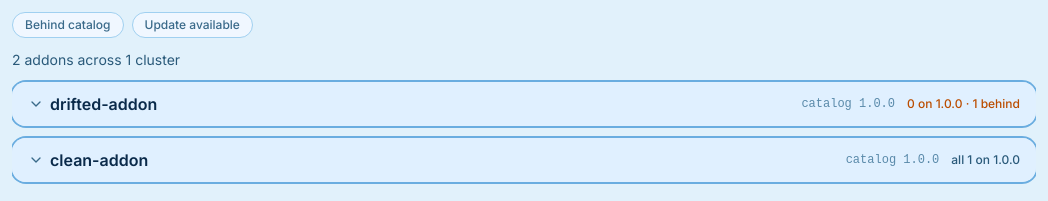
it: AddonVersionList — behind-catalog filter chip › clicking the "Behind catalog" chip filters to only drifted addons
The image size is (1048, 201).
Expected: the text "clean-addon" is shown, x1=50 y1=148 x2=148 y2=172
Click the button with test id "version-list-behind-chip".
click(68, 25)  # box x1=12 y1=12 x2=124 y2=38
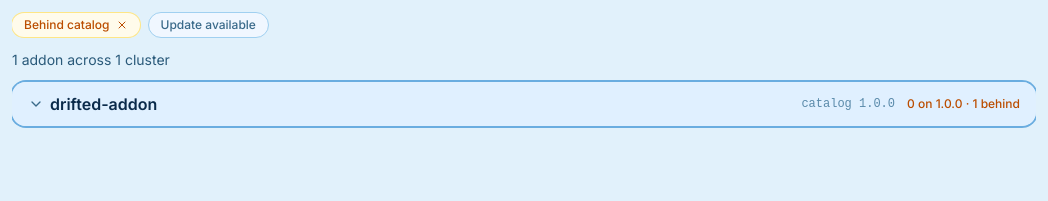
Expected: the text "drifted-addon" is shown, x1=50 y1=92 x2=157 y2=116
Expected: the button "clean-addon" is gone
